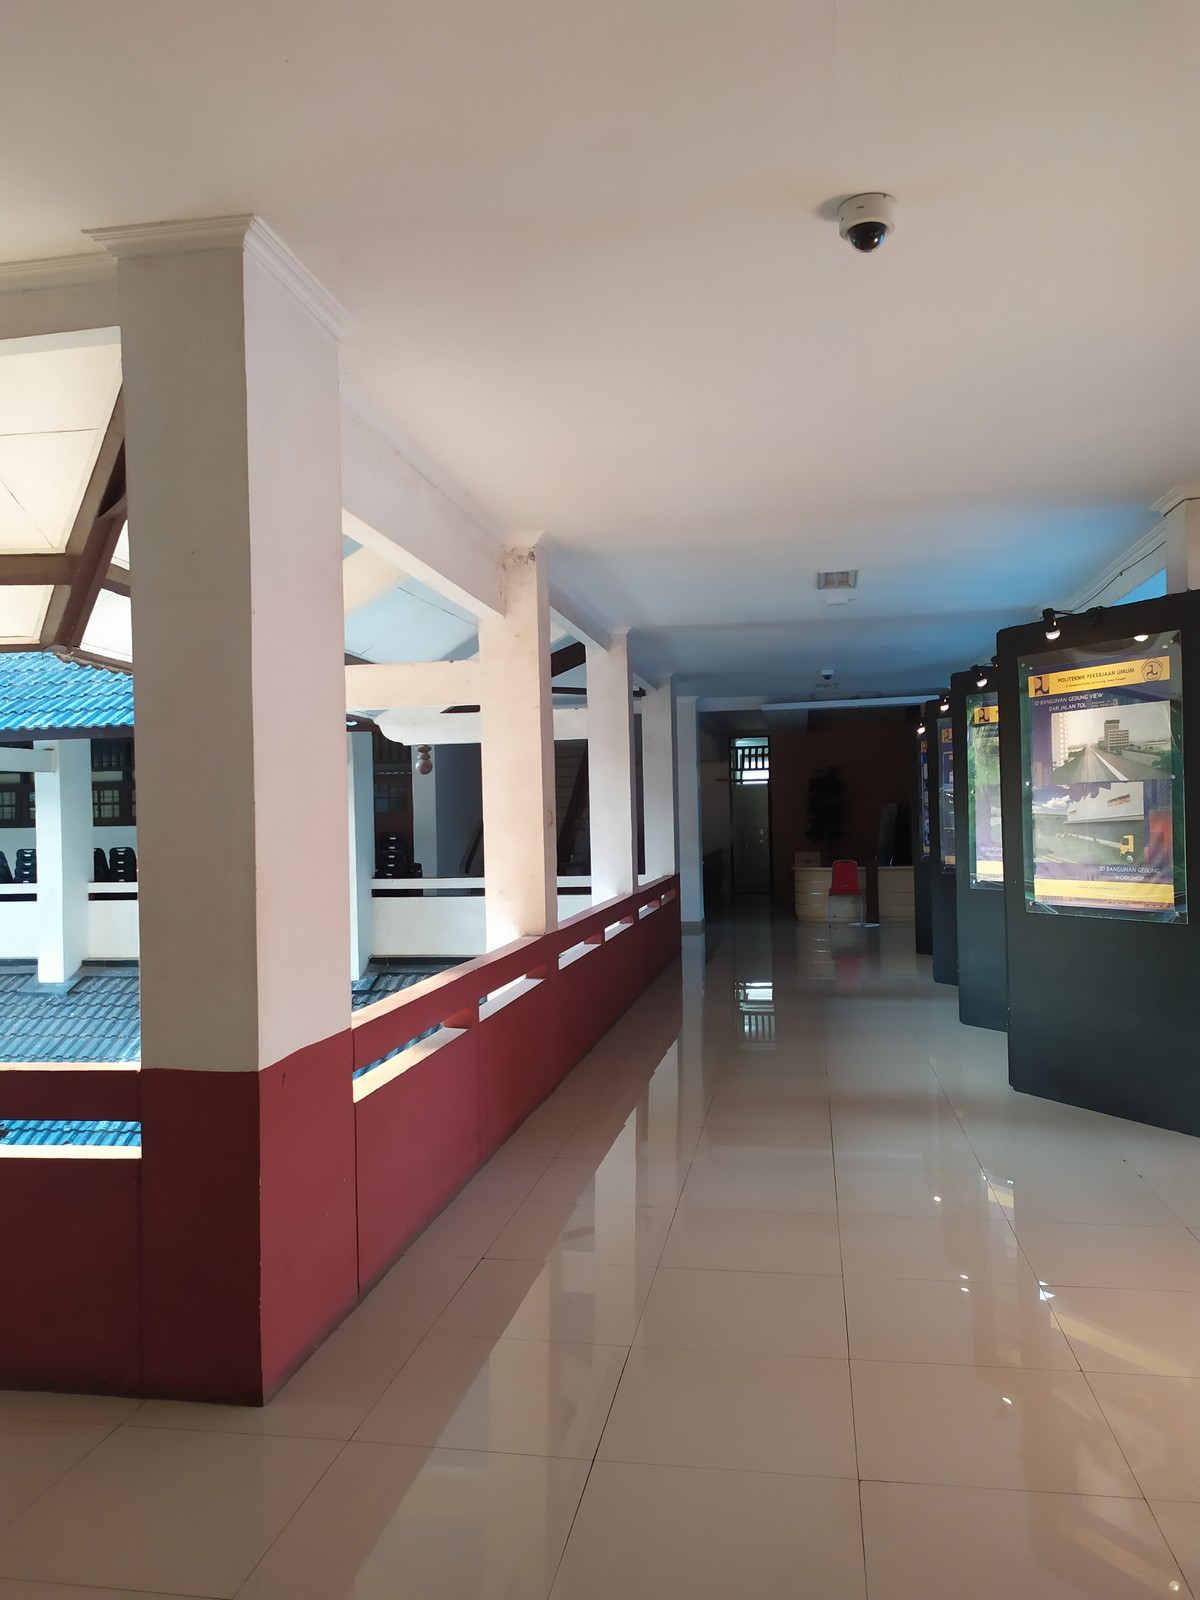concrete beam: (326, 648, 498, 719)
concrete column: (108, 227, 363, 1412), (468, 534, 568, 955), (580, 627, 649, 905), (26, 738, 103, 979)
